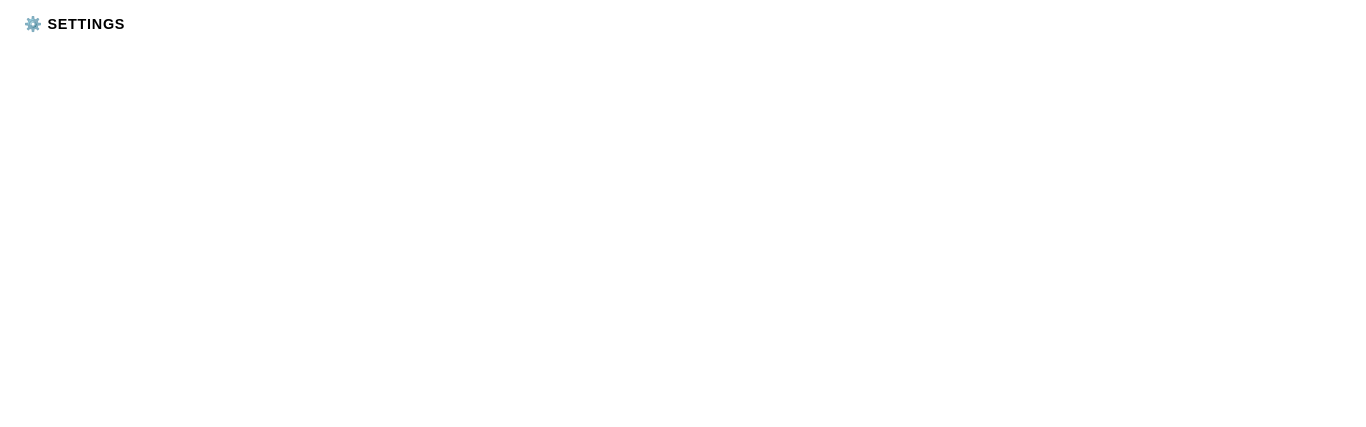
Test case: SettingsPanel › toggles sound effects preference
Click the button "⚙️ Settings".
click(75, 24)  # box [8, 8, 141, 41]
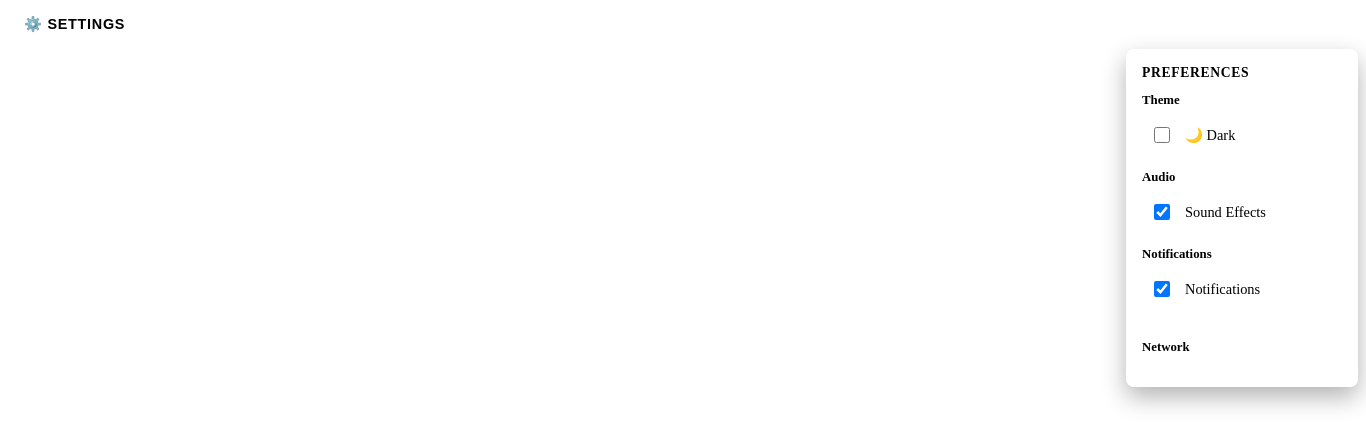
Now the checkbox labelled "Sound Effects" is shown
Now the checkbox labelled "Sound Effects" is checked
Click the checkbox labelled "Sound Effects".
click(1162, 212)  # box [1154, 204, 1170, 220]
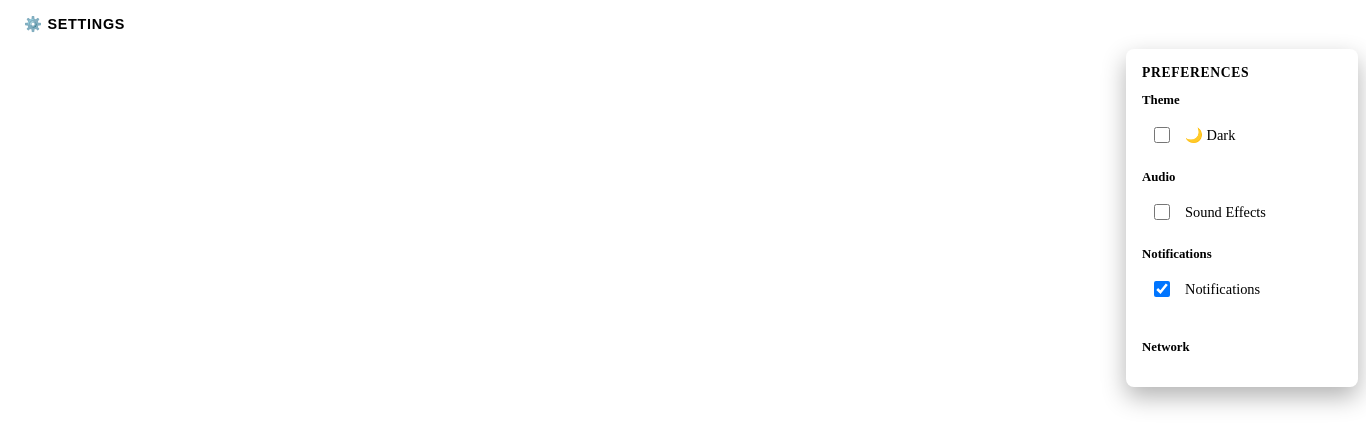
Now the checkbox labelled "Sound Effects" is not checked, box [1154, 204, 1170, 220]
